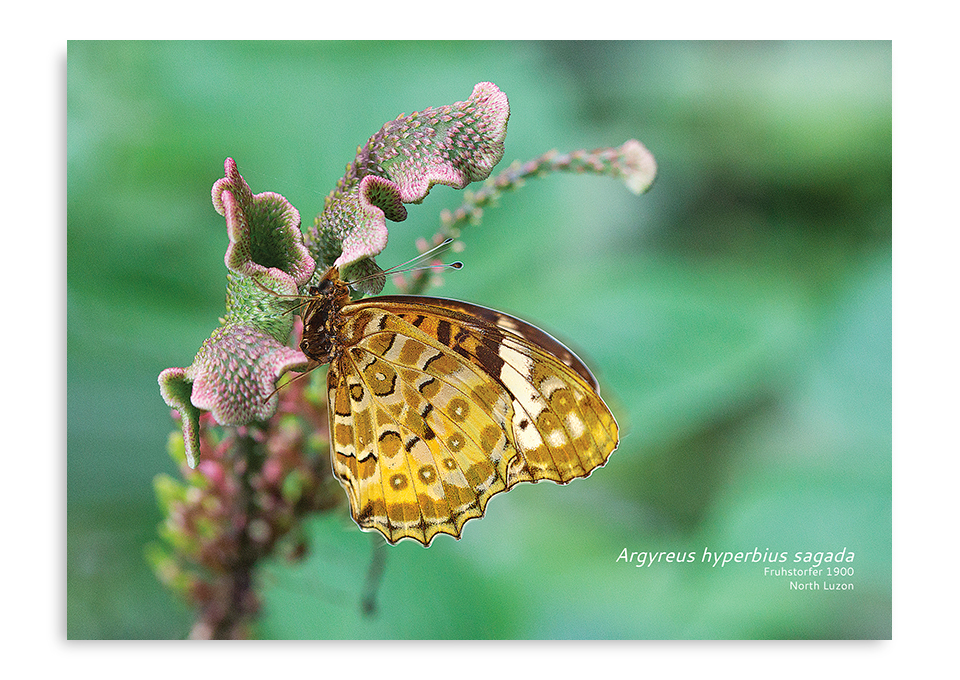Argyreus hyperbius: (246, 235, 632, 566)
butterfly: (248, 237, 634, 568)
